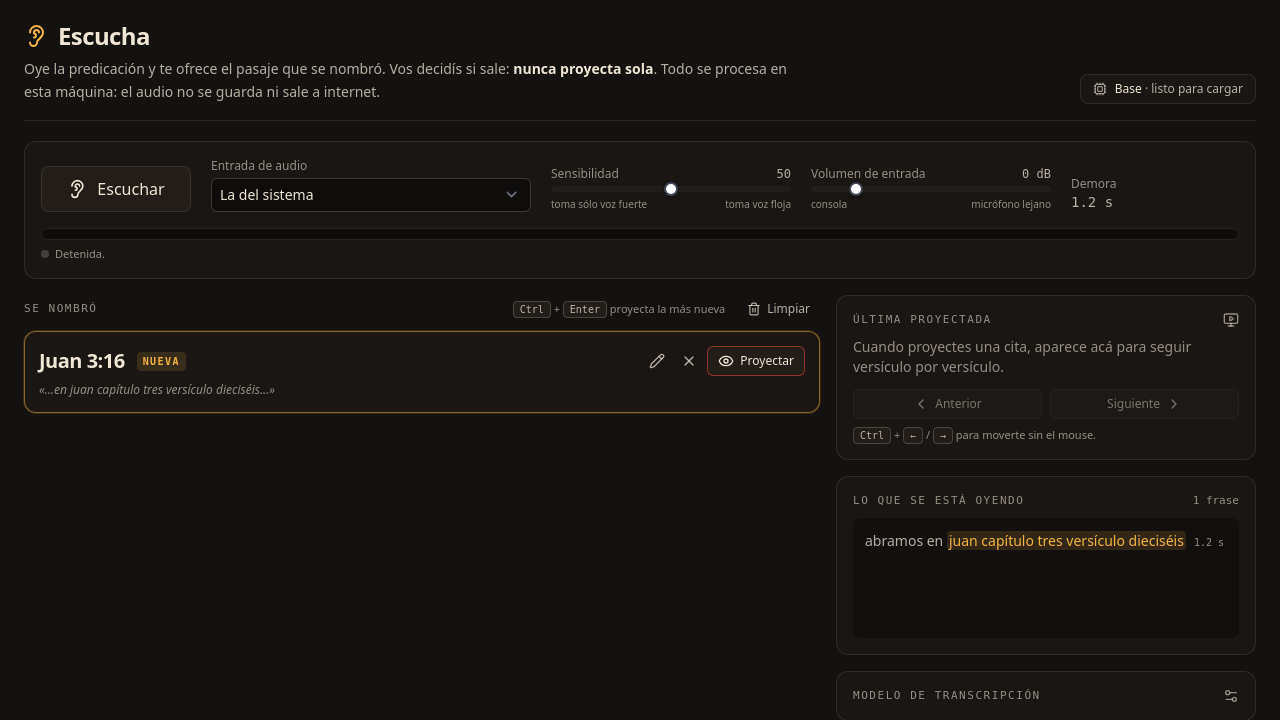
Test case: sección Escucha › avisa en vez de proyectar cuando el versículo no existe
Check: the text "Juan 3:16" is shown, box [39,347,125,375]
Click the button "Proyectar".
click(756, 361)  # box [707,346,805,376]
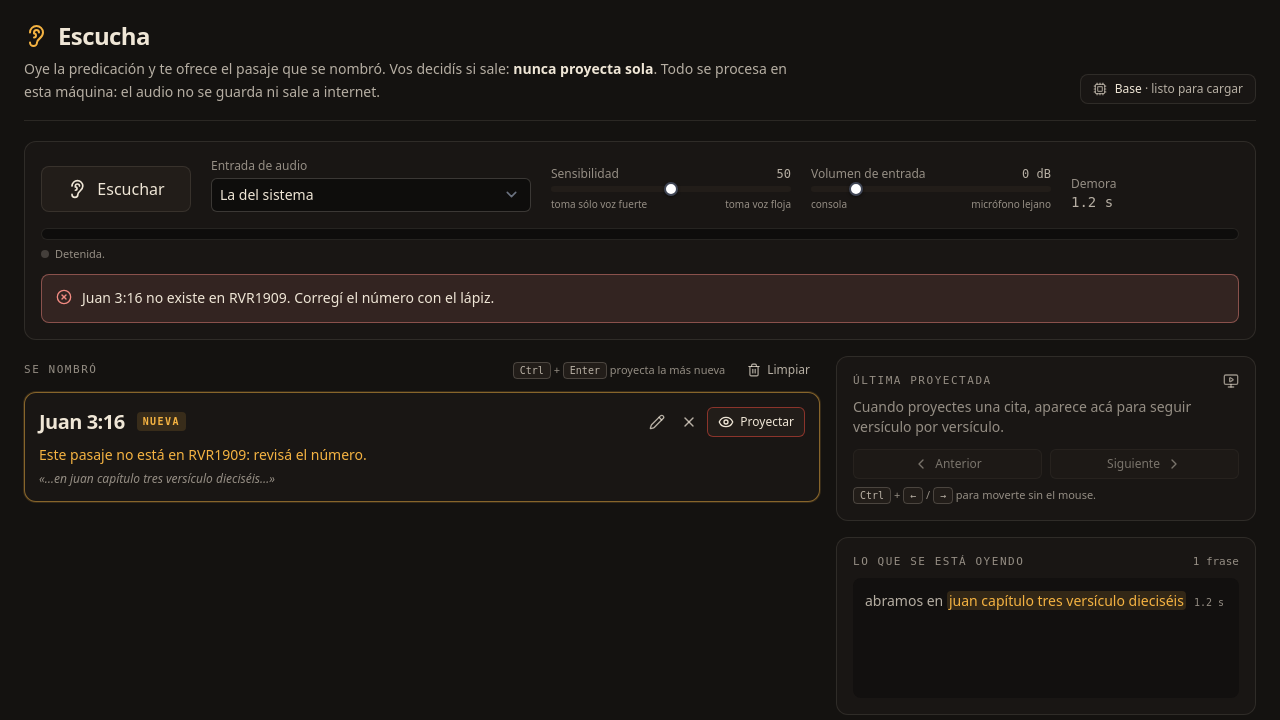
Check: the text "no existe en RVR1909" is shown, box [82,288,494,307]
